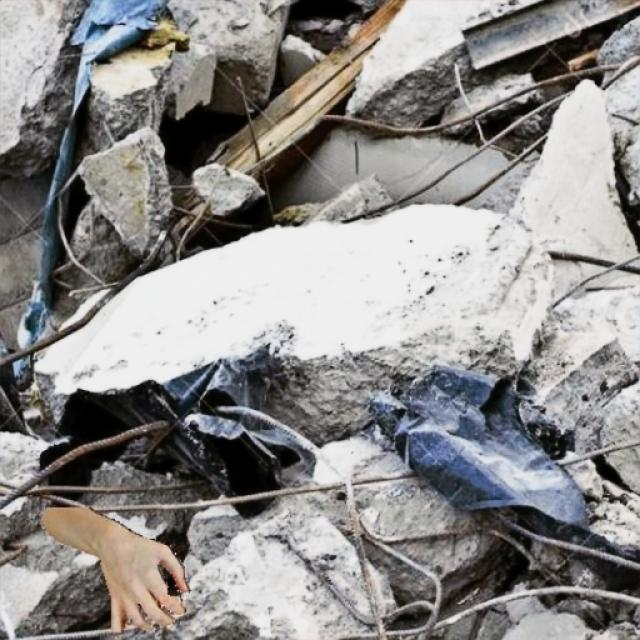Person in Rubble: (40, 508, 190, 632)
